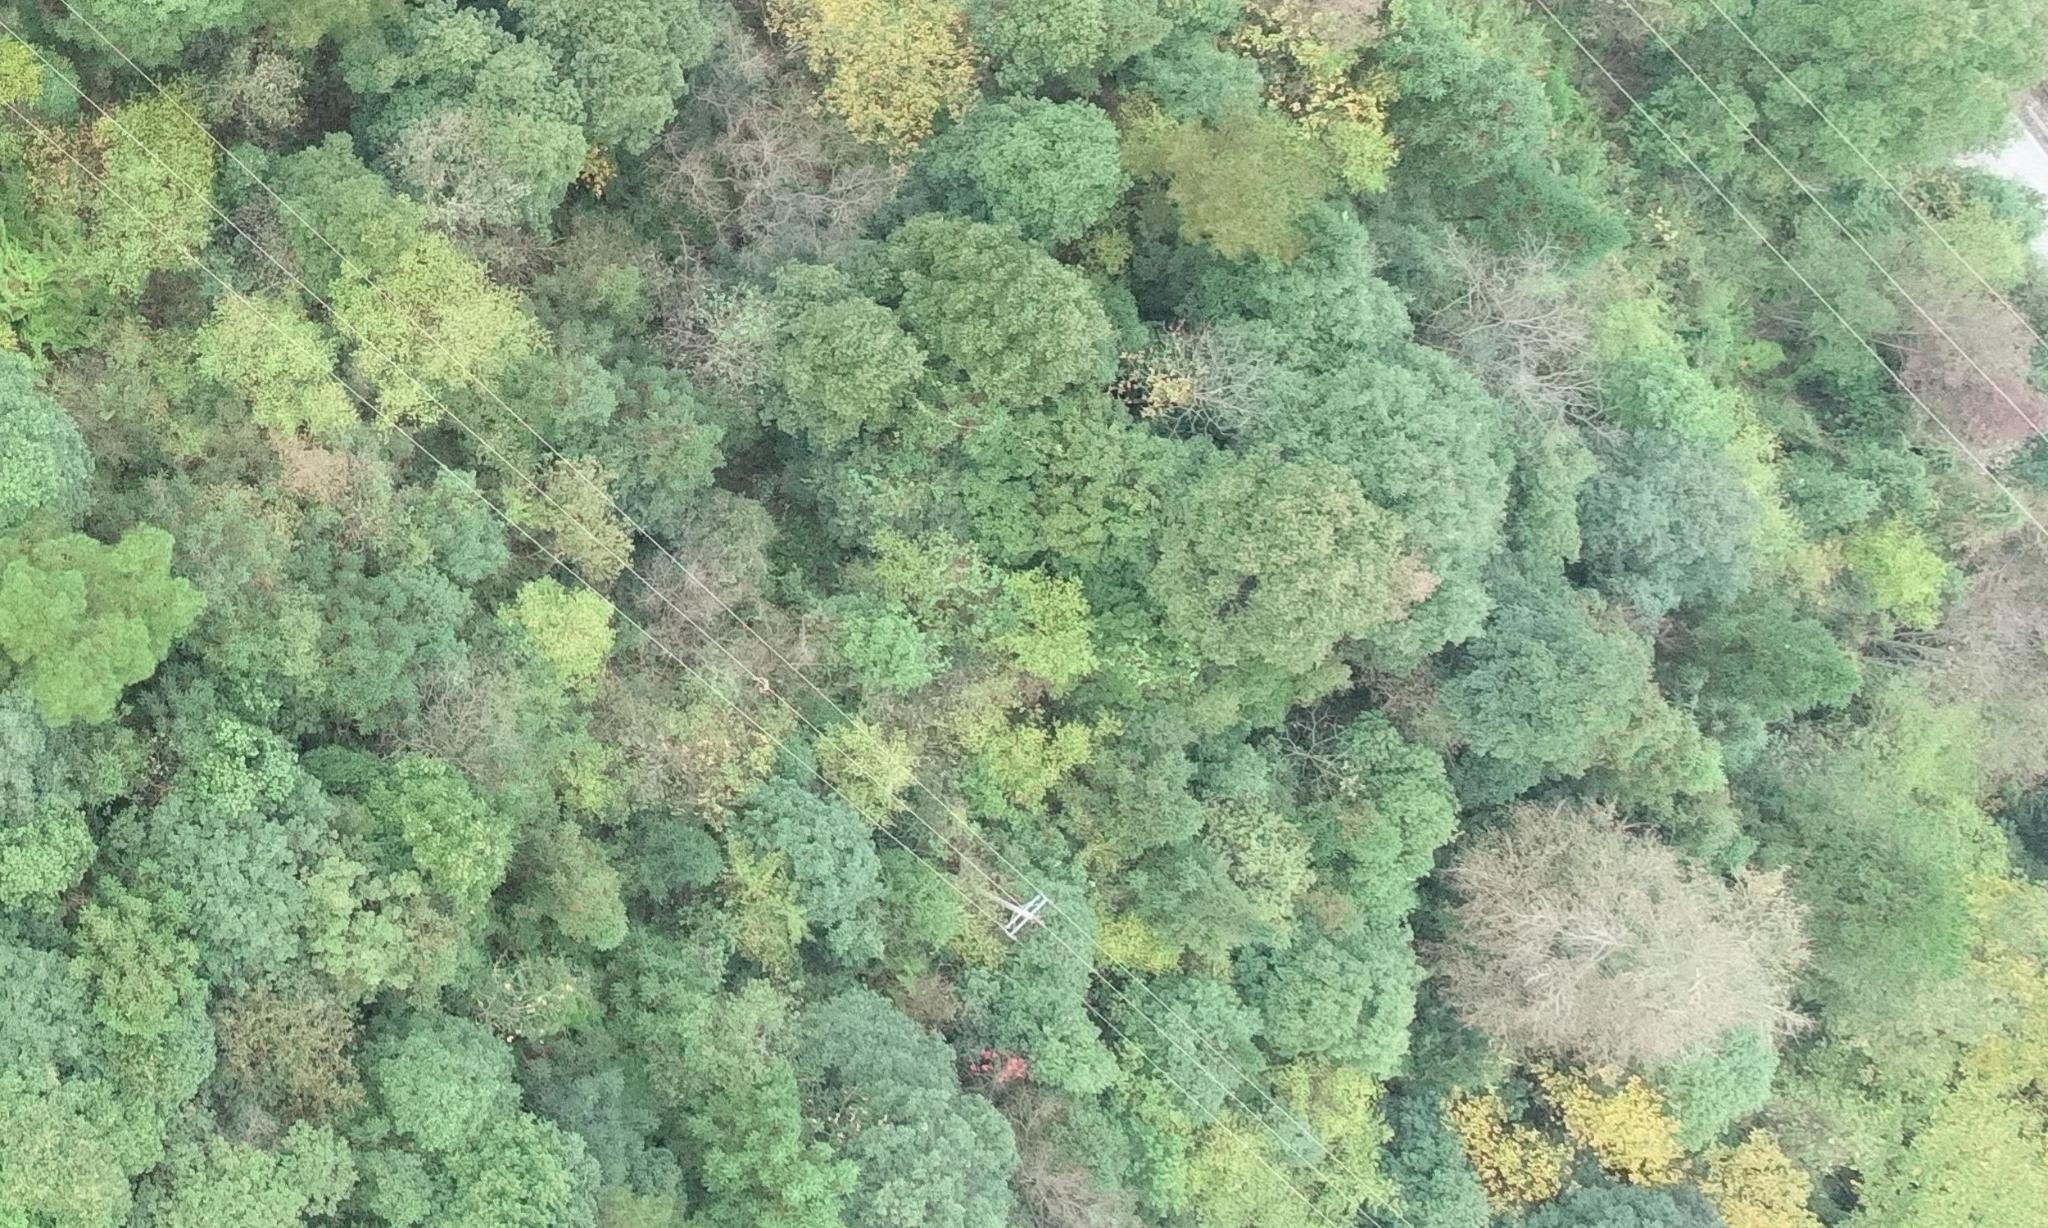dead: (1430, 759, 1833, 1101)
